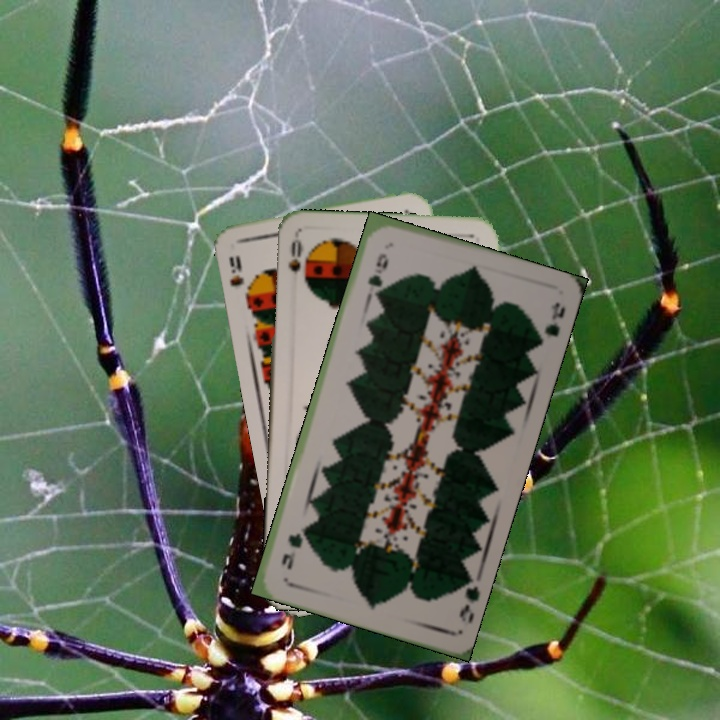G9: (453, 572, 482, 625), (364, 249, 391, 289)
S9: (225, 251, 257, 305)
SO: (284, 235, 304, 275)
